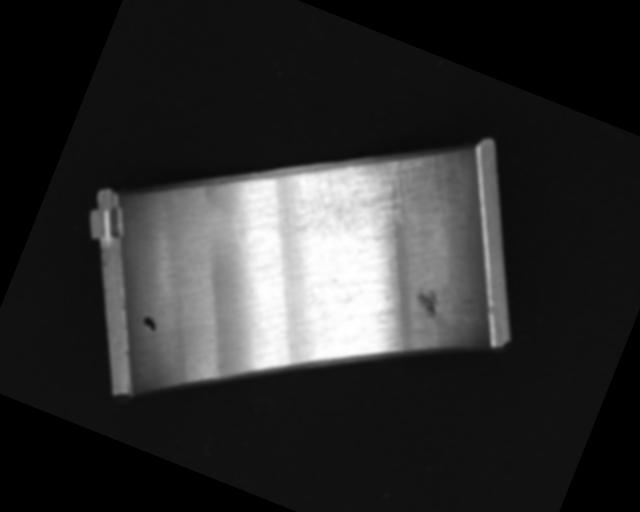blot: (139, 314, 160, 334)
bruise: (410, 284, 445, 318)
scratch: (298, 117, 442, 256)
